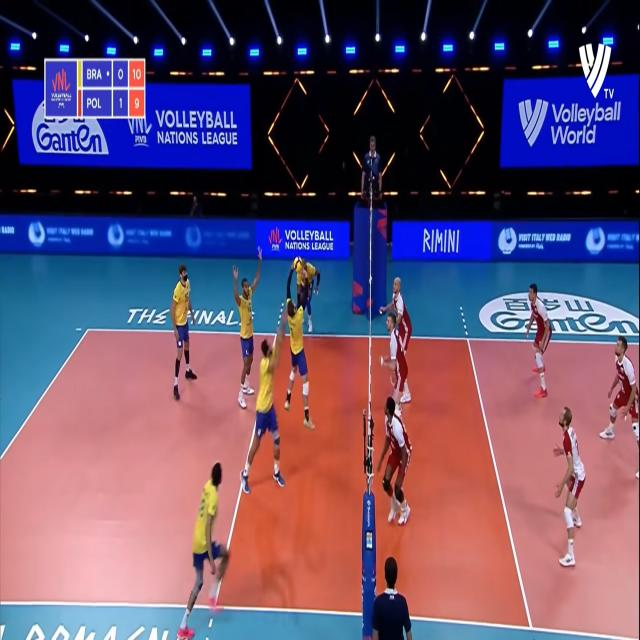player: (242, 300, 290, 491), (180, 458, 228, 640), (284, 264, 317, 430), (552, 402, 582, 572), (232, 246, 263, 406), (596, 338, 640, 448), (380, 398, 414, 529), (172, 264, 199, 399), (525, 282, 553, 405), (384, 273, 413, 362), (384, 313, 410, 411)
